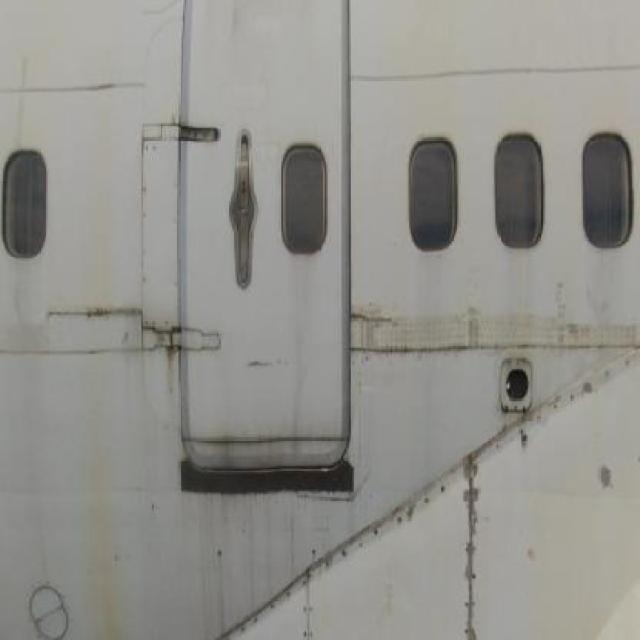Missing-Rivet: (497, 366, 638, 462), (137, 114, 189, 306), (326, 481, 454, 556), (456, 438, 489, 640), (207, 574, 296, 640), (298, 555, 325, 640)
Rust: (156, 347, 193, 408)
Scartch: (45, 291, 221, 357)
